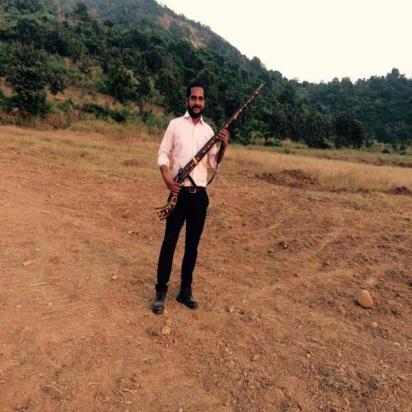Gun: (152, 82, 265, 222)
